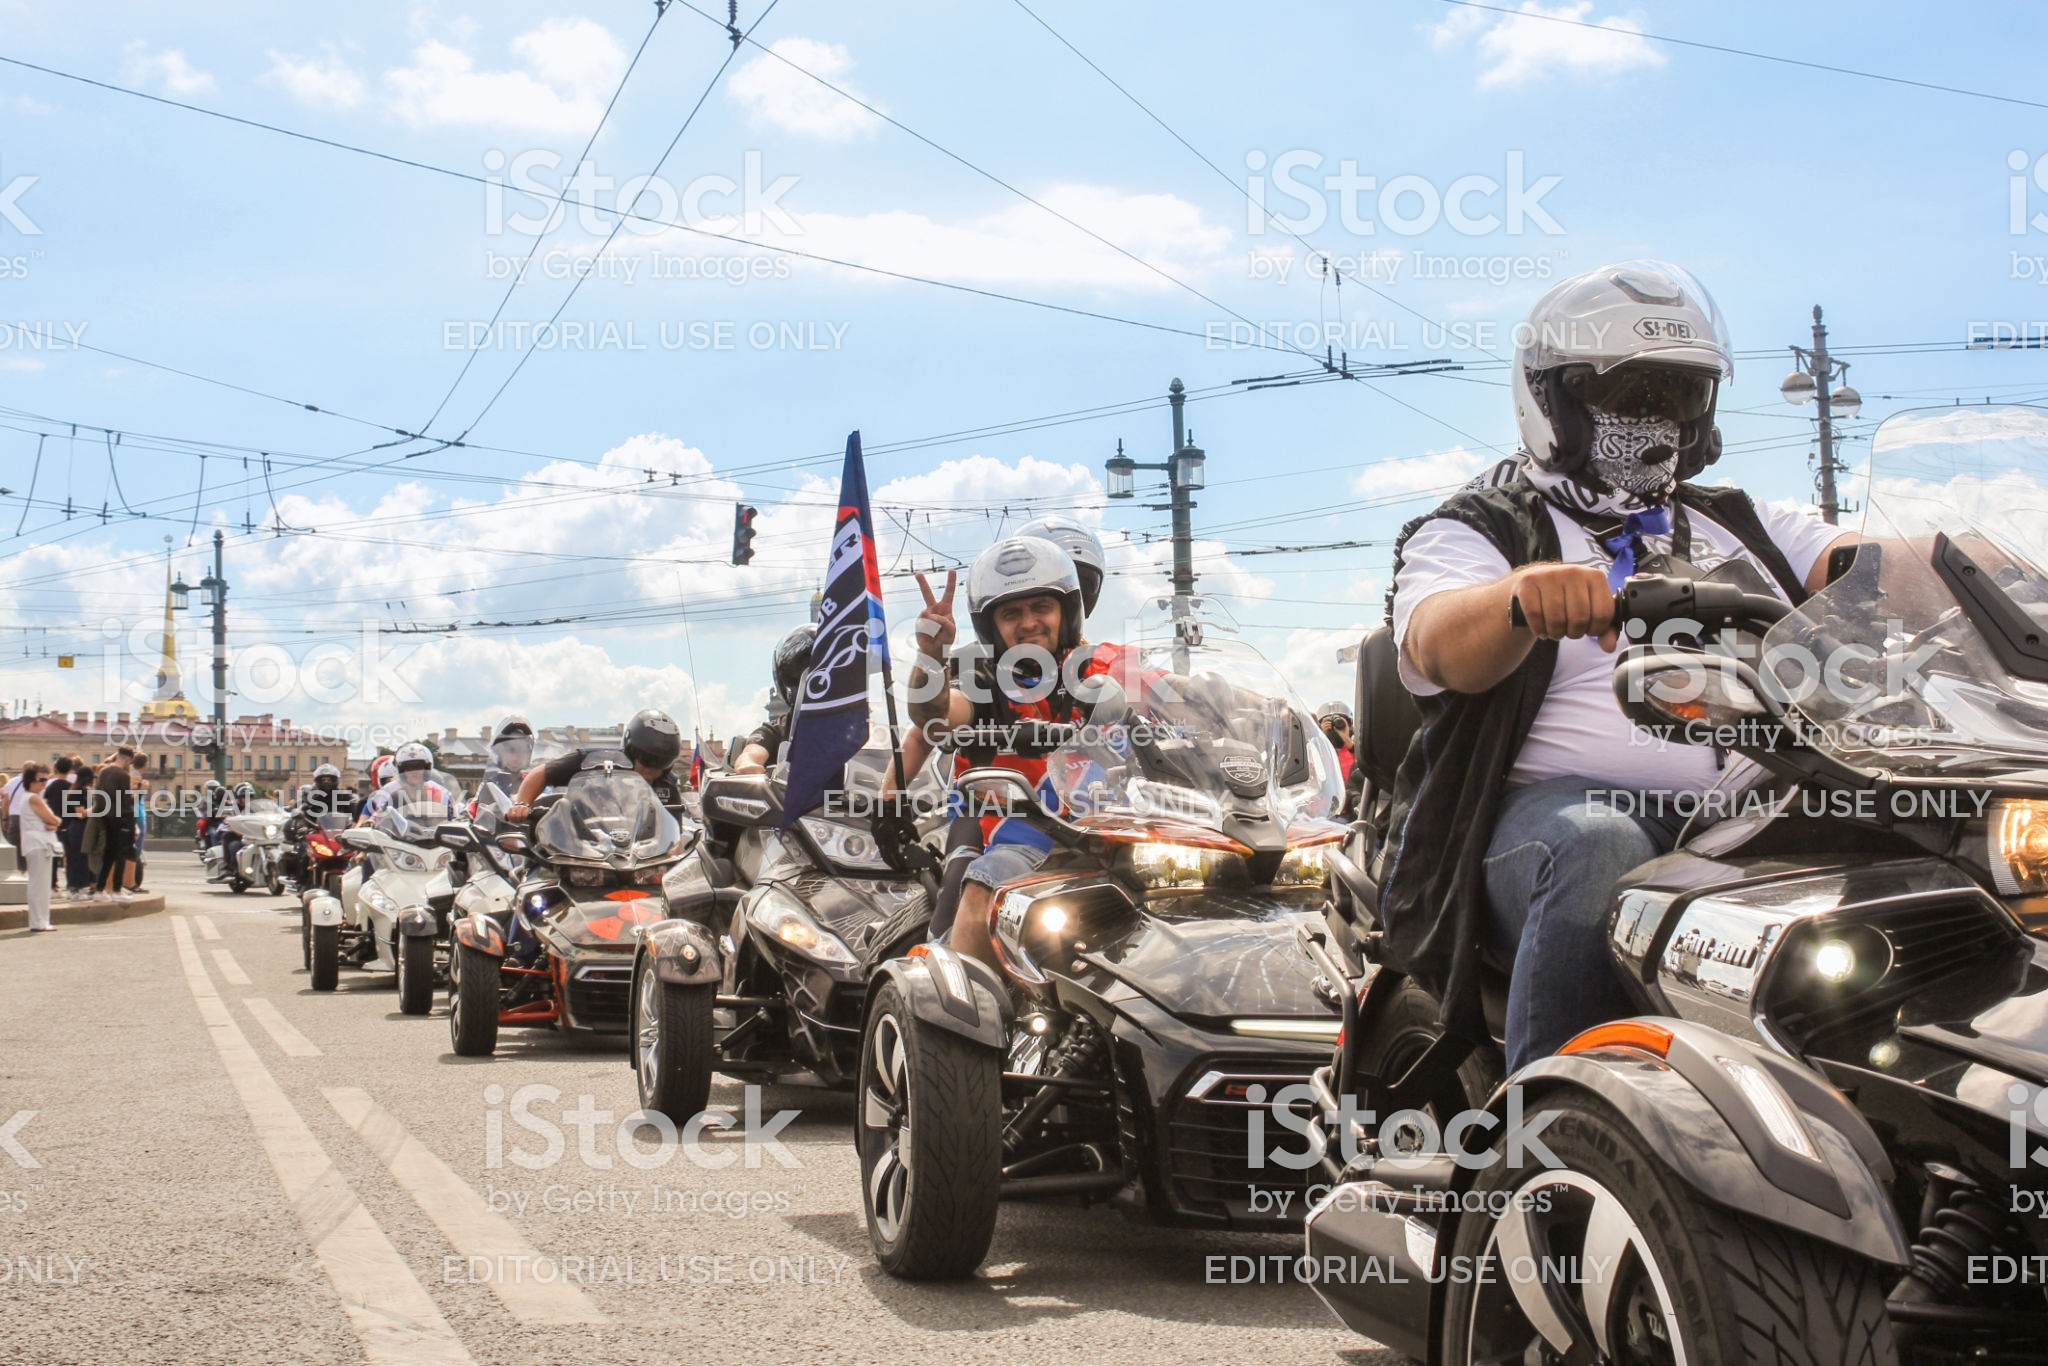helmet: (1502, 245, 1711, 470), (952, 531, 1074, 640)
